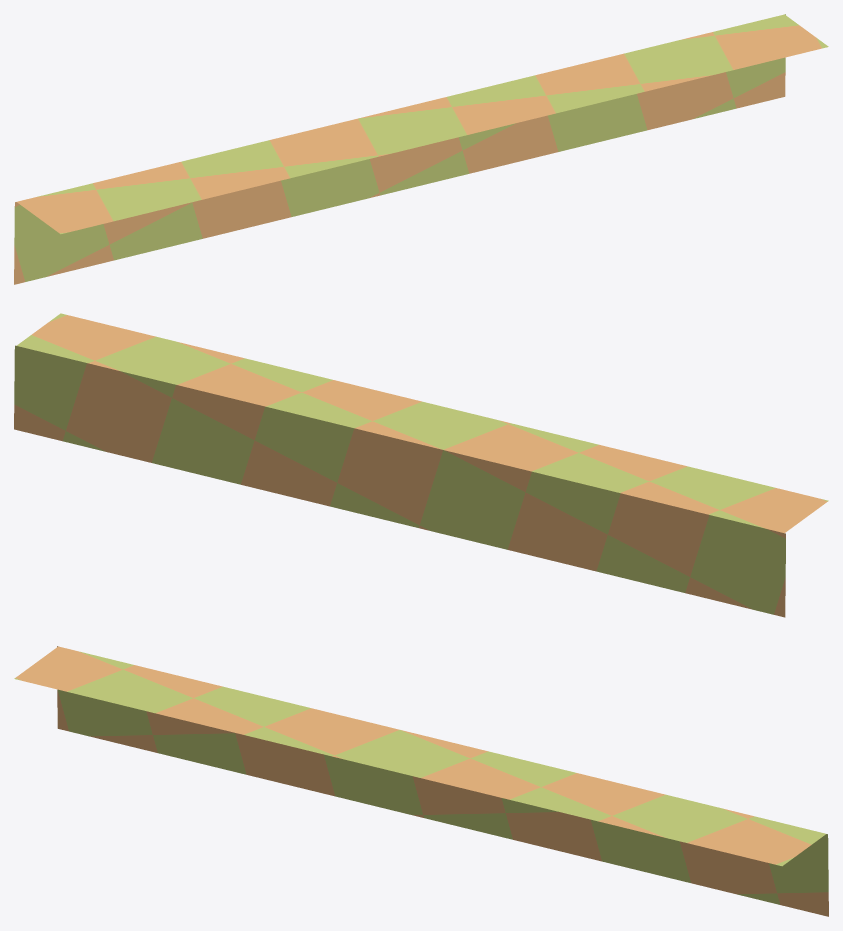
Rendered from test_stage02.fbx.
3 views of the same model, one above another, from view 1: azimuth 30°, elevation 25°; view 2: azimuth 150°, elevation 25°; view 3: azimuth 330°, elevation 25° (orthographic).
Parts seen in each view (by area): view 1: st_stage; view 2: st_stage; view 3: st_stage.
Boxes of the visible parts, x1=… form: st_stage: x1=14, y1=14, x2=828, y2=284; st_stage: x1=14, y1=313, x2=828, y2=617; st_stage: x1=14, y1=646, x2=828, y2=916.
Size of the model in its own units: 201 by 20.73 by 20.39.
